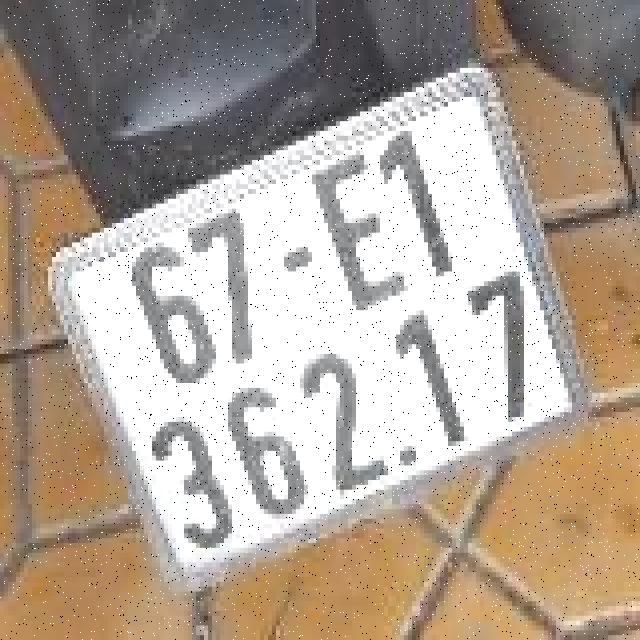1: (363, 112, 468, 300), (377, 301, 485, 463)
2: (285, 341, 397, 506)
3: (137, 397, 252, 563)
6: (111, 224, 228, 397), (208, 367, 322, 537)
7: (169, 192, 278, 382), (452, 260, 557, 432)
E: (303, 141, 420, 325)
